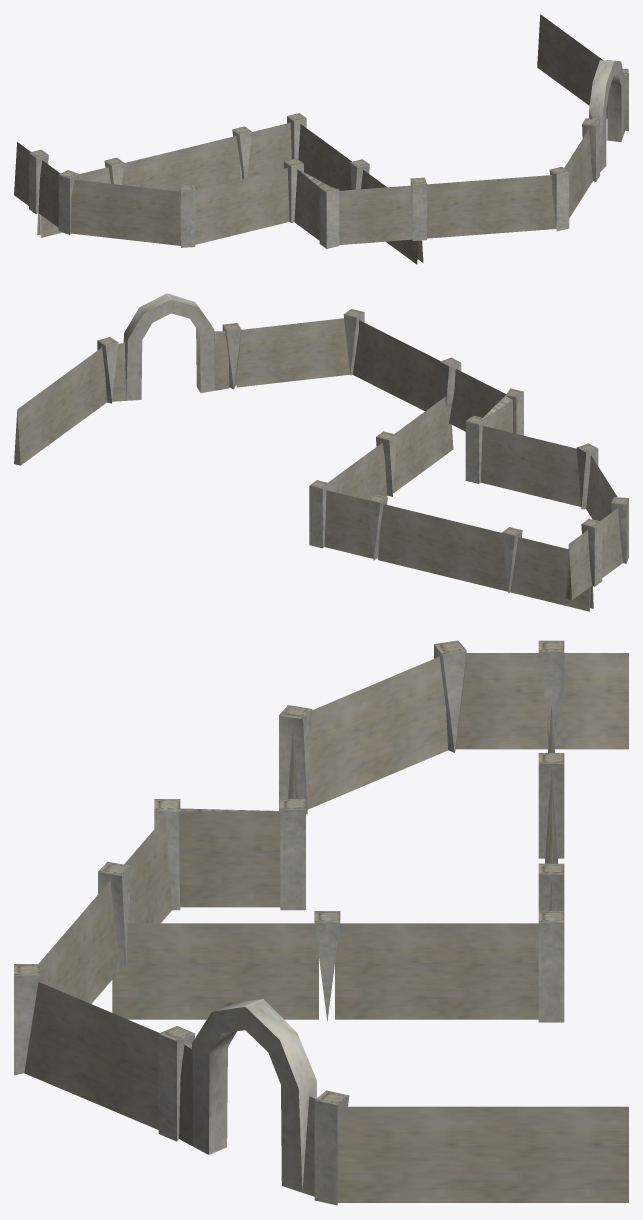
File: poi_all_corral_half_64x64_s01_l1.fbx
3 renders of one model, top to bottom at view 1: azimuth 30°, elevation 25°; view 2: azimuth 150°, elevation 25°; view 3: azimuth 270°, elevation 25°, orthographic. The views are drawn at different scales.
Visible parts, largest first — view 1: mesh_node; view 2: mesh_node; view 3: mesh_node.
Boxes of the visible parts, x1=… form: mesh_node: x1=14, y1=14, x2=628, y2=264; mesh_node: x1=14, y1=293, x2=628, y2=611; mesh_node: x1=14, y1=640, x2=628, y2=1205.
Size of the model in its own units: 42.57 by 9 by 23.81.
1 material, 1 textured.
